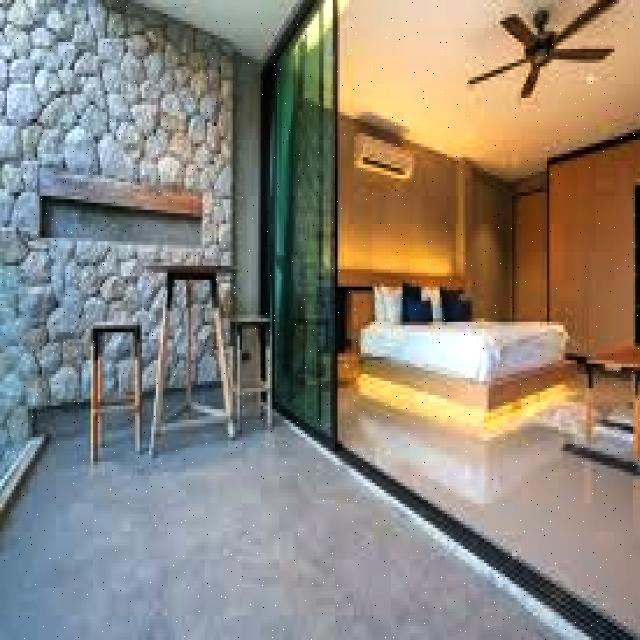bed: (370, 264, 569, 392)
